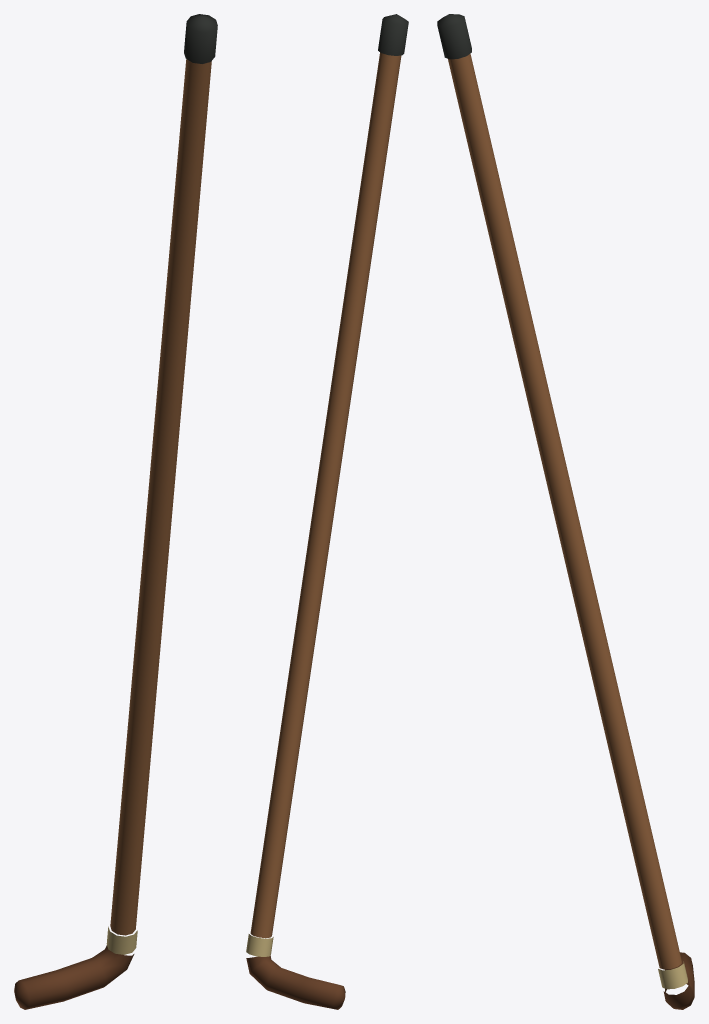
The model's file is old-cane-gabriel.glb.
The picture shows the model from 3 angles, left to right: view 1: azimuth 30°, elevation 25°; view 2: azimuth 150°, elevation 25°; view 3: azimuth 270°, elevation 25°; orthographic projection. The views are drawn at different scales.
Parts seen in each view (by area): view 1: Acc_Male_Hand_Cane; view 2: Acc_Male_Hand_Cane; view 3: Acc_Male_Hand_Cane.
Part boxes in pixels (<box>): Acc_Male_Hand_Cane: <box>14,14,217,1009</box>; Acc_Male_Hand_Cane: <box>246,14,408,1009</box>; Acc_Male_Hand_Cane: <box>437,14,694,1009</box>.
Size of the model in its own units: 0.0619 by 0.5408 by 0.1276.
